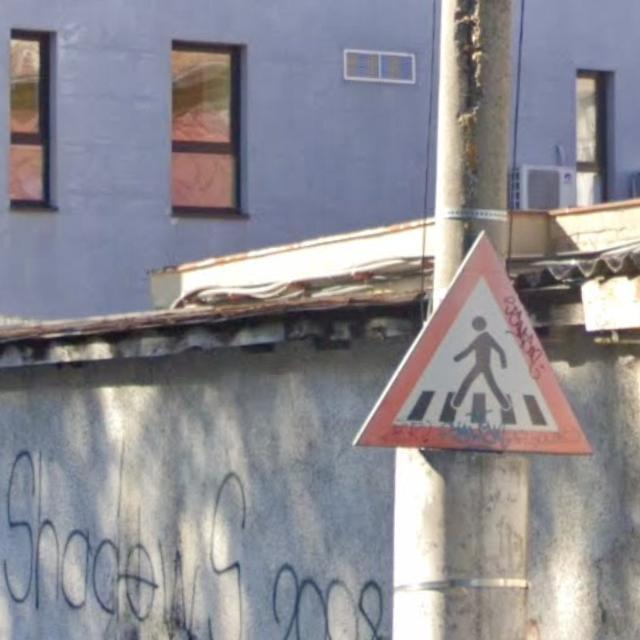warn_crosswalk: (348, 225, 596, 456)
